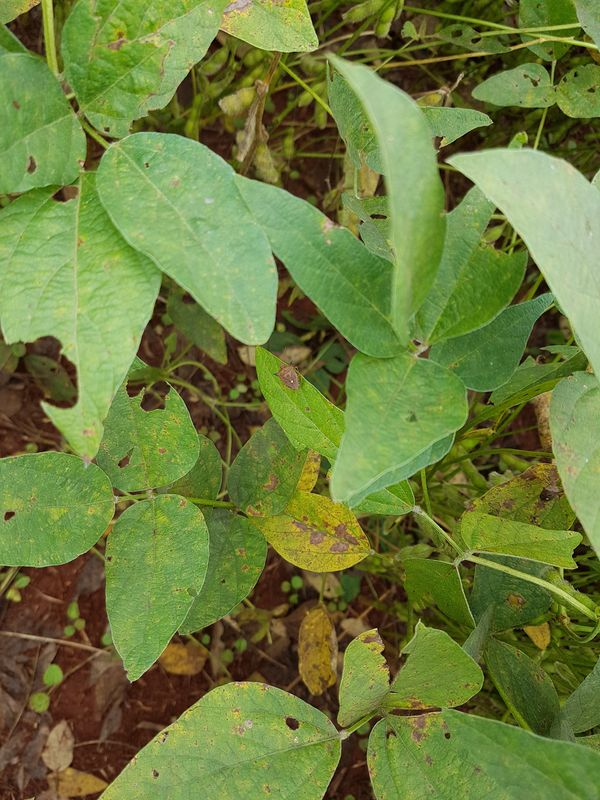Euschistus_heros_adulto: (269, 359, 305, 396), (535, 480, 565, 509)
